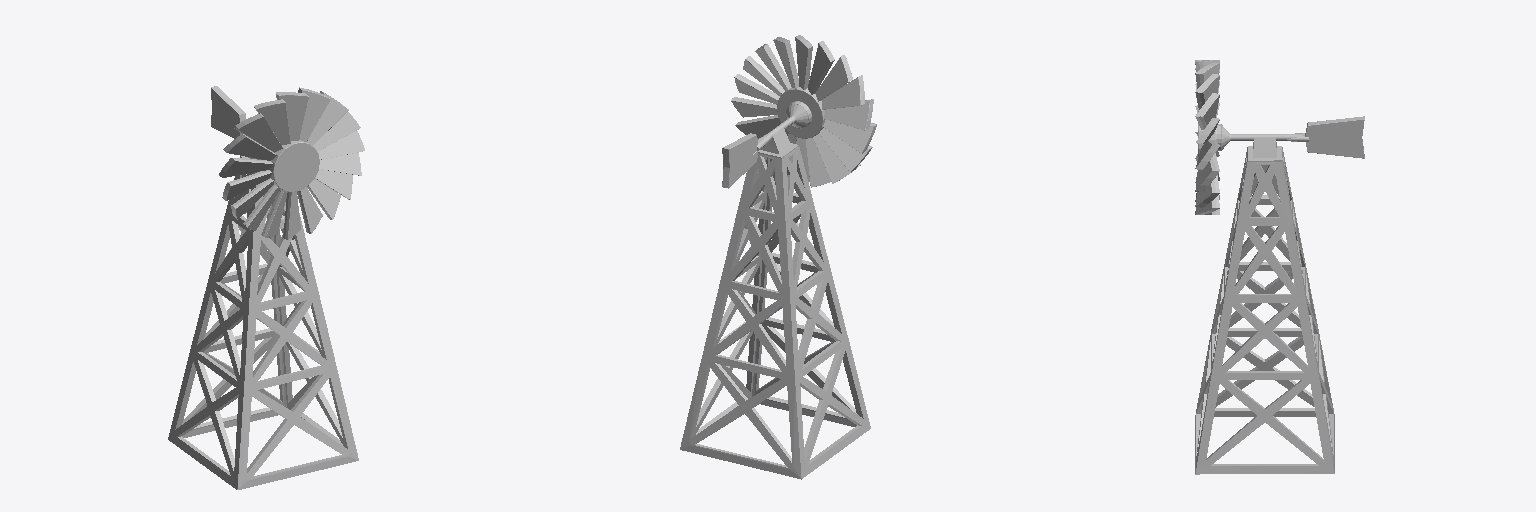
Rendered from windmill.obj.
3 views of the same model, side by side, from view 1: azimuth 30°, elevation 25°; view 2: azimuth 150°, elevation 25°; view 3: azimuth 270°, elevation 25° (orthographic).
Parts seen in each view (by area): view 1: 1940_Metal_Windmill; view 2: 1940_Metal_Windmill; view 3: 1940_Metal_Windmill.
Boxes of the visible parts, x1=… form: 1940_Metal_Windmill: x1=168, y1=86, x2=364, y2=489; 1940_Metal_Windmill: x1=680, y1=35, x2=876, y2=479; 1940_Metal_Windmill: x1=1195, y1=60, x2=1364, y2=474.
Bounding box in the file's own units: 18.11 × 48.47 × 19.73.